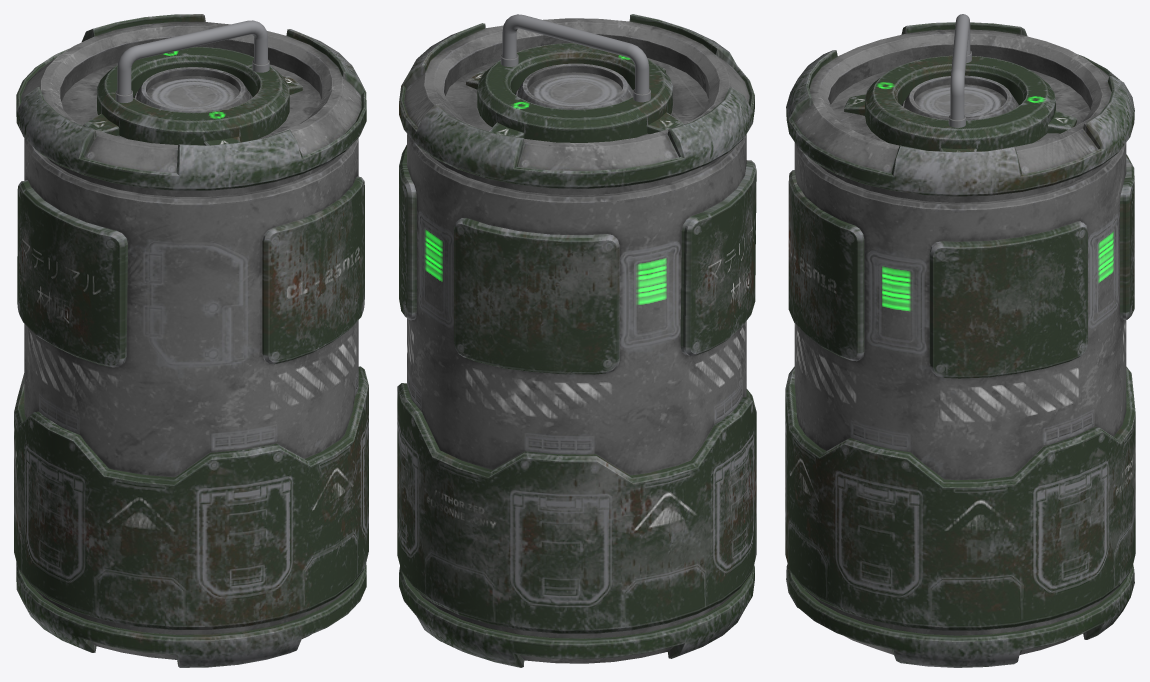
File: scifi_canister.glb
3 views of the same model, side by side, from view 1: azimuth 30°, elevation 25°; view 2: azimuth 150°, elevation 25°; view 3: azimuth 270°, elevation 25° (orthographic). The views are drawn at different scales.
Parts seen in each view (by area): view 1: polySurface11; view 2: polySurface11; view 3: polySurface11.
Boxes of the visible parts, box(x1,y1,x2,y2) form: polySurface11: box(14, 14, 368, 667); polySurface11: box(397, 14, 756, 667); polySurface11: box(785, 14, 1135, 667).
Size of the model in its own units: 1.13 by 2 by 1.13.
1 material, 1 textured.
